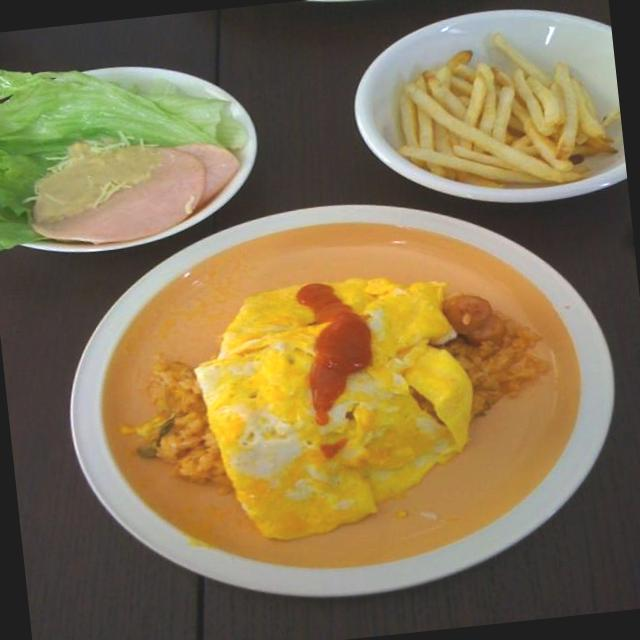French Fries: (378, 26, 620, 200)
Green Salad: (0, 38, 250, 244)
